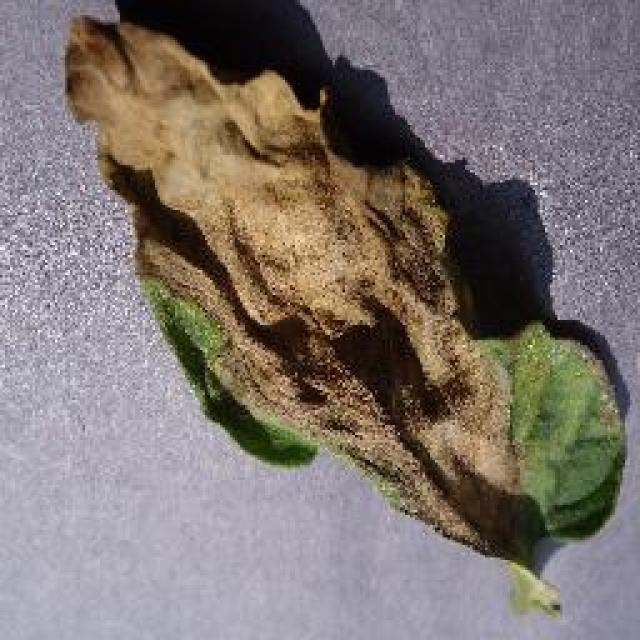Tomato_Late_Blight: (51, 2, 640, 616)
